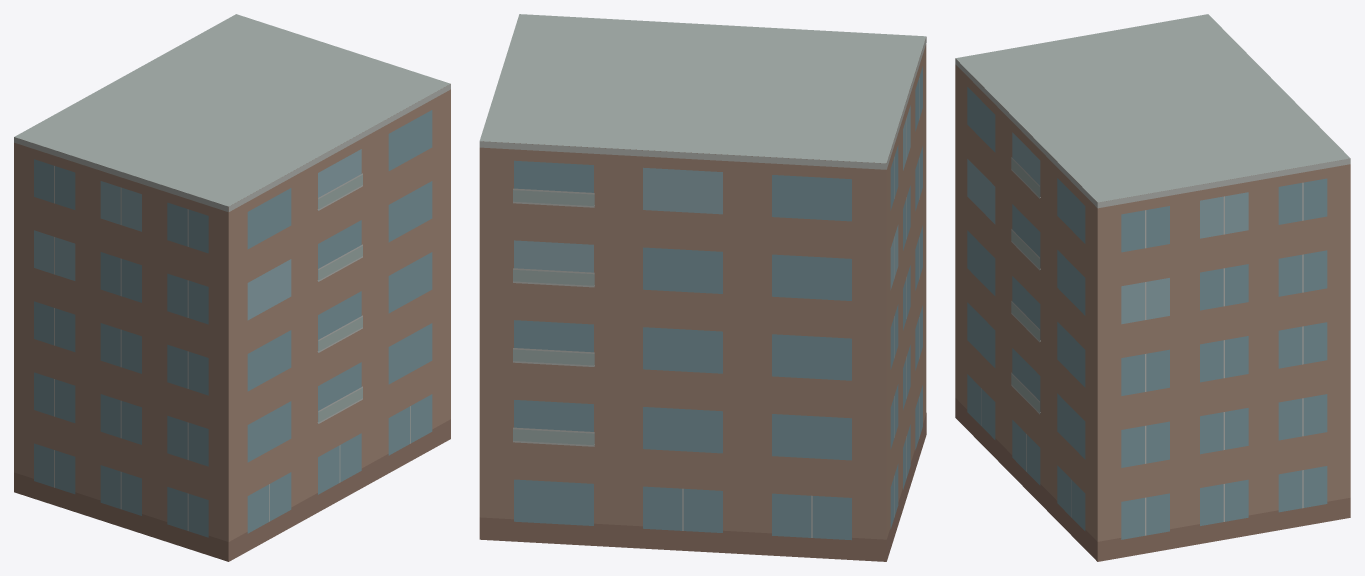
File: survey-upis-32926273.glb
The picture shows the model from 3 angles, left to right: view 1: azimuth 30°, elevation 25°; view 2: azimuth 150°, elevation 25°; view 3: azimuth 270°, elevation 25°; orthographic projection. The views are drawn at different scales.
Parts seen in each view (by area): view 1: survey-upis-32926273.tmp; view 2: survey-upis-32926273.tmp; view 3: survey-upis-32926273.tmp.
Boxes of the visible parts, x1,y1,x2,y2 form: survey-upis-32926273.tmp: (14,14,450,561); survey-upis-32926273.tmp: (479,14,926,561); survey-upis-32926273.tmp: (955,14,1350,561).
Size of the model in its own units: 17.17 by 15.25 by 15.22.
